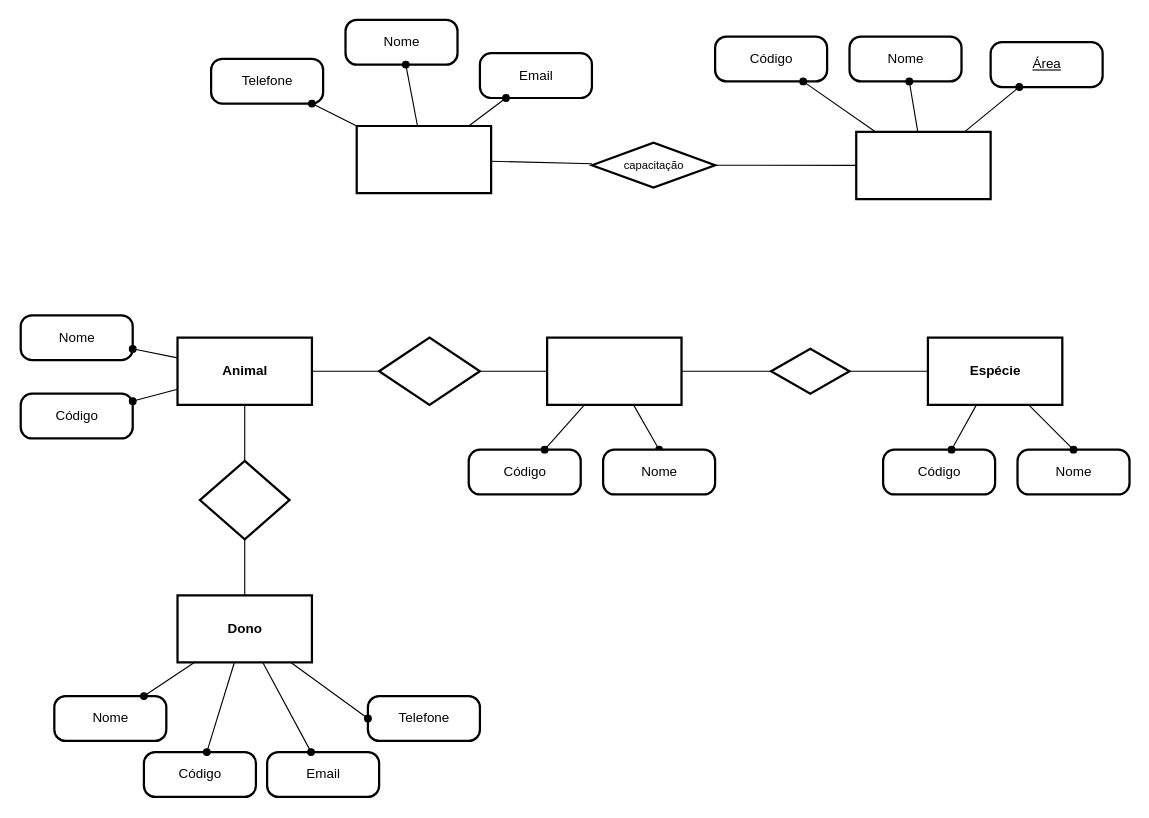
Image size: 1149x818. Some labels were removed from this diagram. The shapes that lost their labels are listed below. From the top down, each one's centre as x and y in pixels, then its label:
(x=423, y=159): Veterinário
(x=923, y=165): Especialidade
(x=428, y=370): classificação
(x=613, y=370): Raça
(x=809, y=370): esp_ra
(x=244, y=499): propriedade
